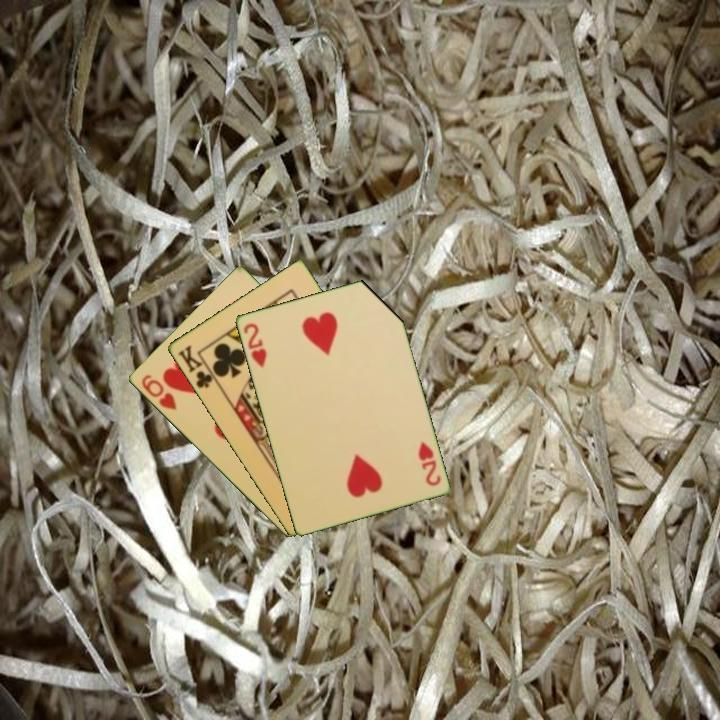2h: (414, 437, 443, 489), (240, 319, 269, 370)
6h: (137, 371, 179, 413)
Kc: (174, 341, 220, 391)
